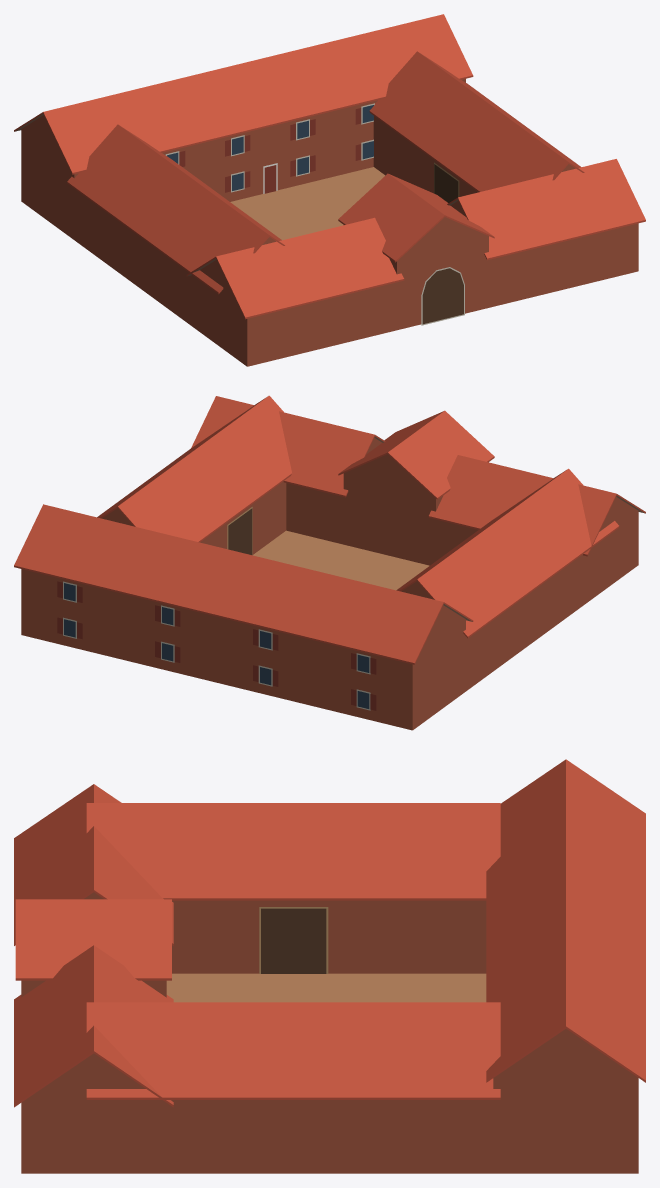
The model's file is ferme_cour_carree.glb.
3 views of the same model, one above another, from view 1: azimuth 30°, elevation 25°; view 2: azimuth 150°, elevation 25°; view 3: azimuth 270°, elevation 25° (orthographic). The views are drawn at different scales.
Visible parts, largest first — view 1: ferme_cour_carree; view 2: ferme_cour_carree; view 3: ferme_cour_carree.
Boxes of the visible parts, x1,y1,x2,y2 form: ferme_cour_carree: (14,14,645,366); ferme_cour_carree: (14,395,645,730); ferme_cour_carree: (14,759,645,1173).
Size of the model in its own units: 34.8 by 9.24 by 34.8.
Materials: 1 (1 with a texture image).
